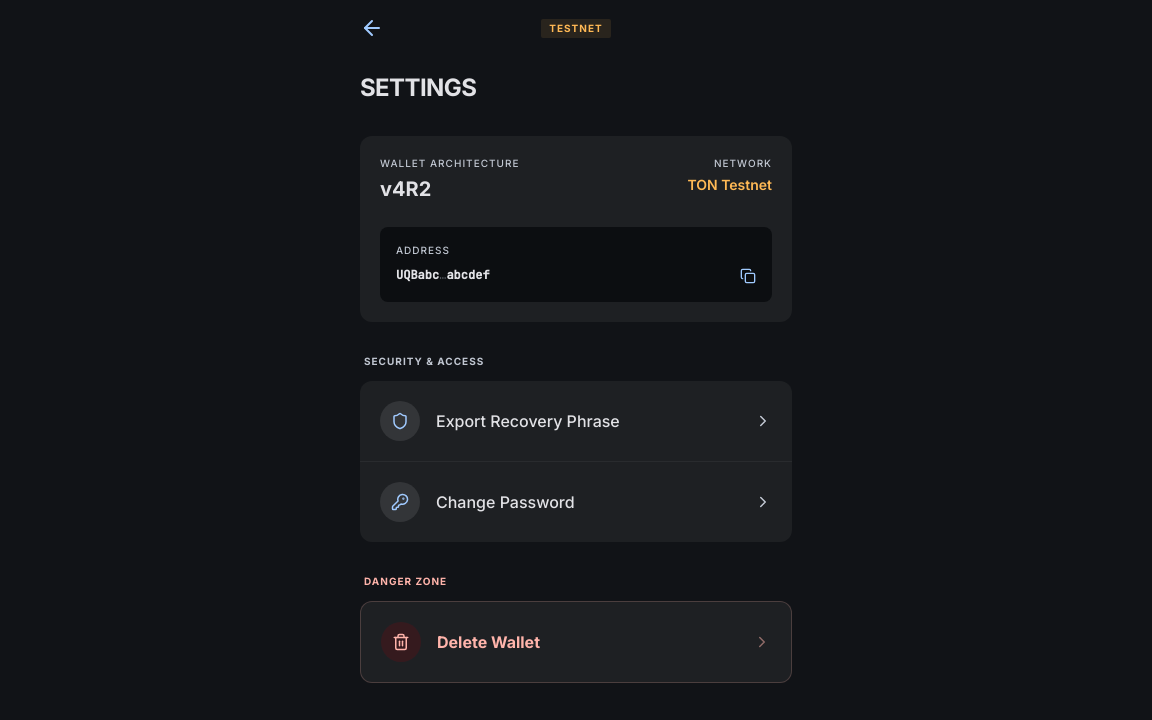
Scenario: SettingsScreen › opens ChangePasswordModal when Change Password clicked
Step 1. Click the button "Change Password" → (576, 502), box [360,462,792,542]
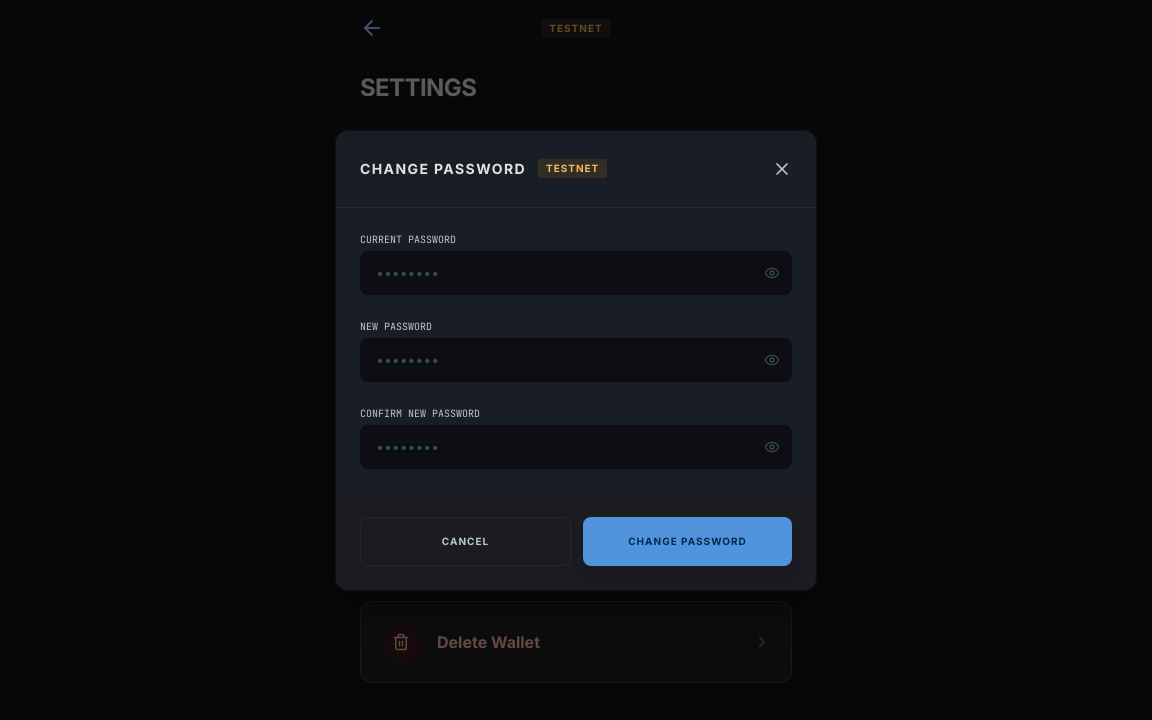
Check: the heading "Change Password" is shown, box [360,158,526,178]
